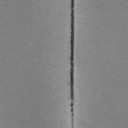slag inclusion: (70, 0, 75, 128)
